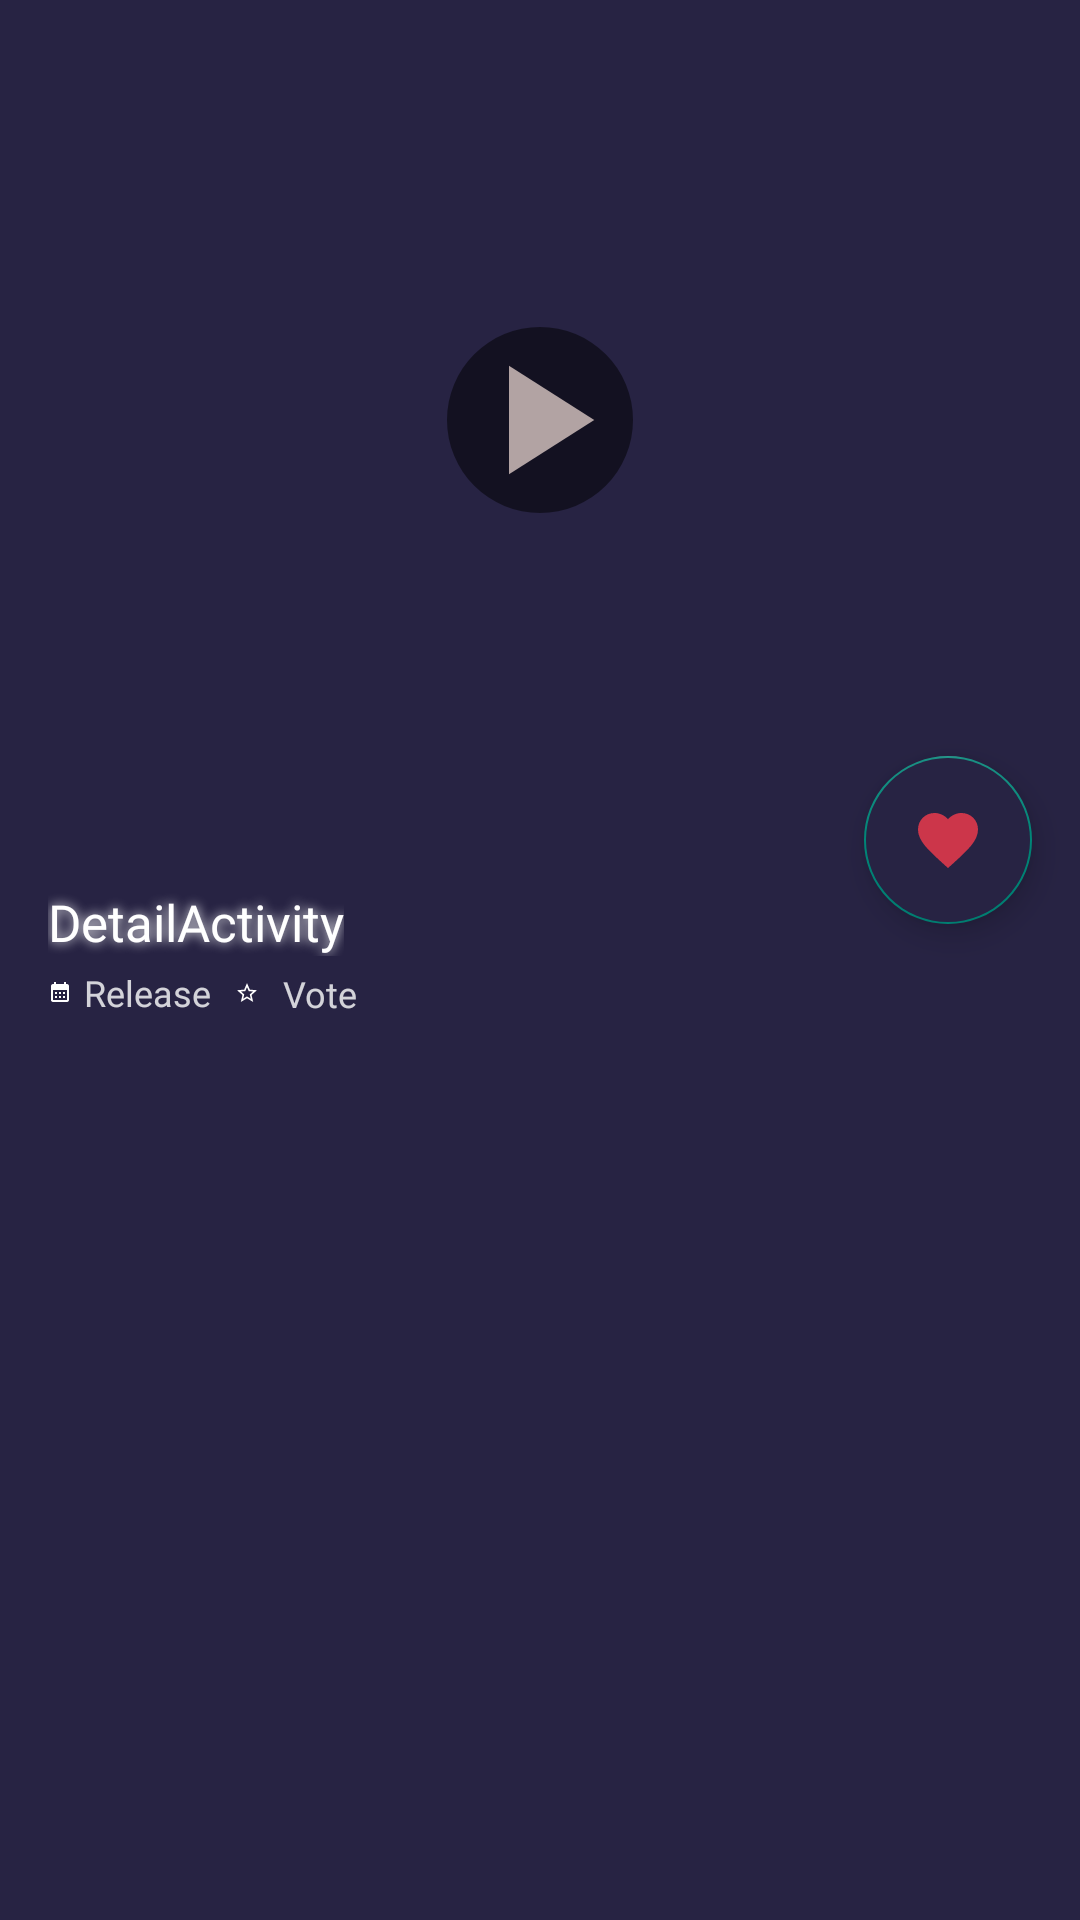

Named icons in this screenshot (1080px×1920px) and their centers, (x,y):
aktif favorite: (948,840)
play: (540,420)
